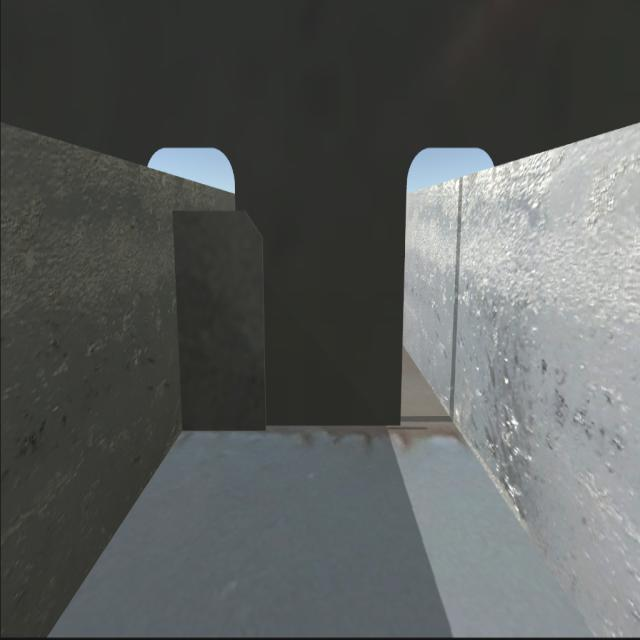fillet_yong_jeop_jang: (177, 415, 405, 427)
longi_yong_jeop_jang: (170, 218, 188, 429)
plate_CP03: (176, 215, 262, 429)
